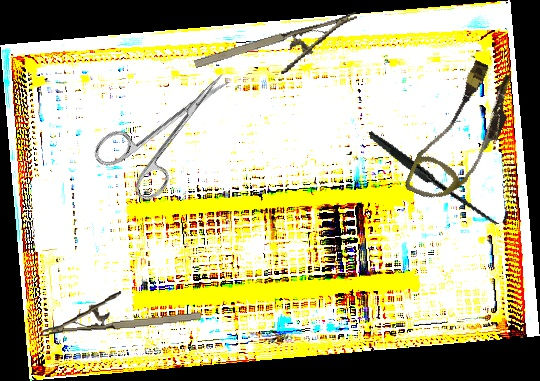Cannula: (403, 53, 523, 215)
Hook Surgical: (368, 102, 510, 251)
Iris Scissors: (88, 49, 255, 211)
Needle Holder: (192, 11, 367, 96), (37, 285, 202, 337)
